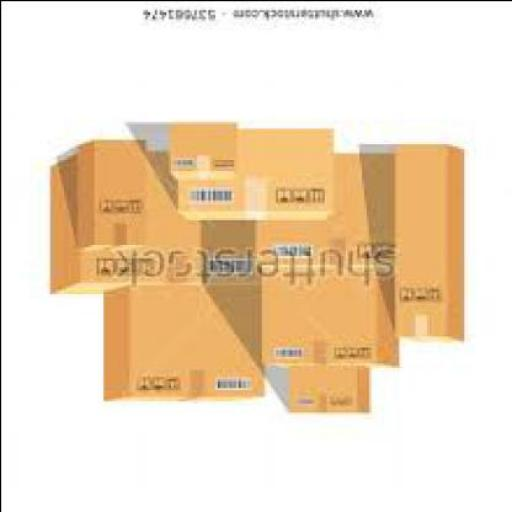cardboard: (262, 156, 400, 372), (104, 219, 266, 400), (51, 146, 200, 296), (179, 130, 333, 223), (396, 148, 466, 344), (74, 141, 150, 253), (168, 125, 239, 186), (288, 364, 368, 414)
